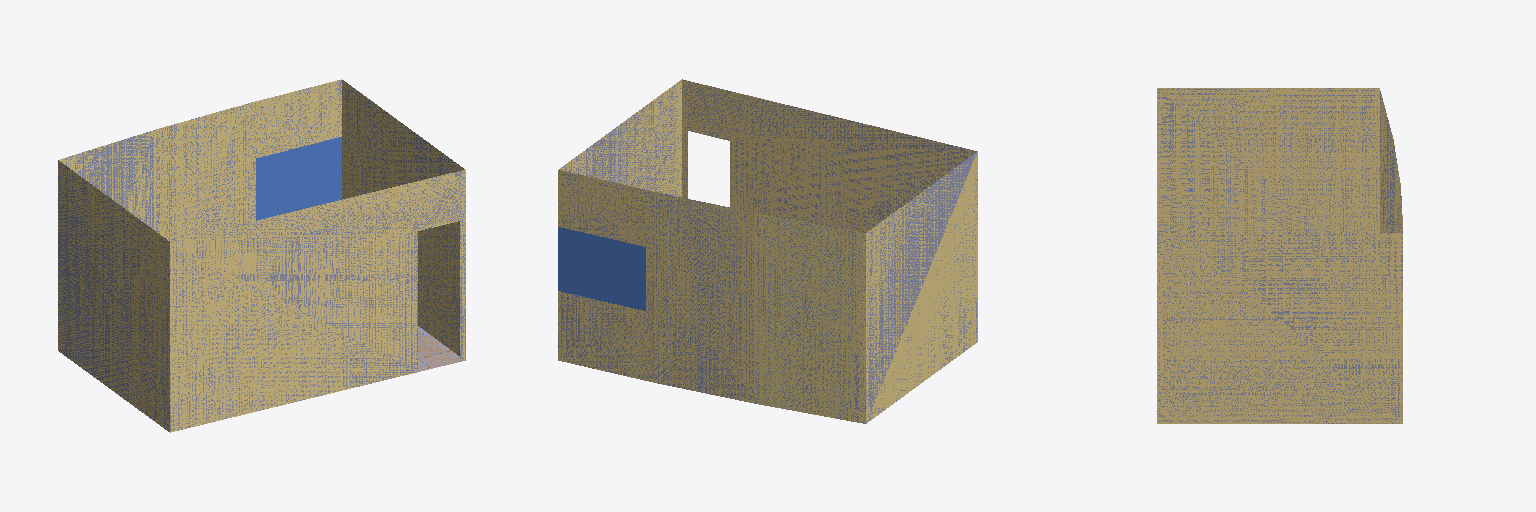
3 views of the same model, side by side, from view 1: azimuth 30°, elevation 25°; view 2: azimuth 150°, elevation 25°; view 3: azimuth 270°, elevation 25° (orthographic).
Parts seen in each view (by area): view 1: Mesh1 DES025 Model; view 2: Mesh1 DES025 Model; view 3: Mesh1 DES025 Model.
Part boxes in pixels (x1,y1,x2,y2): Mesh1 DES025 Model: (58, 79, 465, 432); Mesh1 DES025 Model: (558, 79, 977, 423); Mesh1 DES025 Model: (1157, 88, 1402, 423).
Size of the model in its own units: 4.86 by 3 by 3.52.
4 materials, 1 textured.